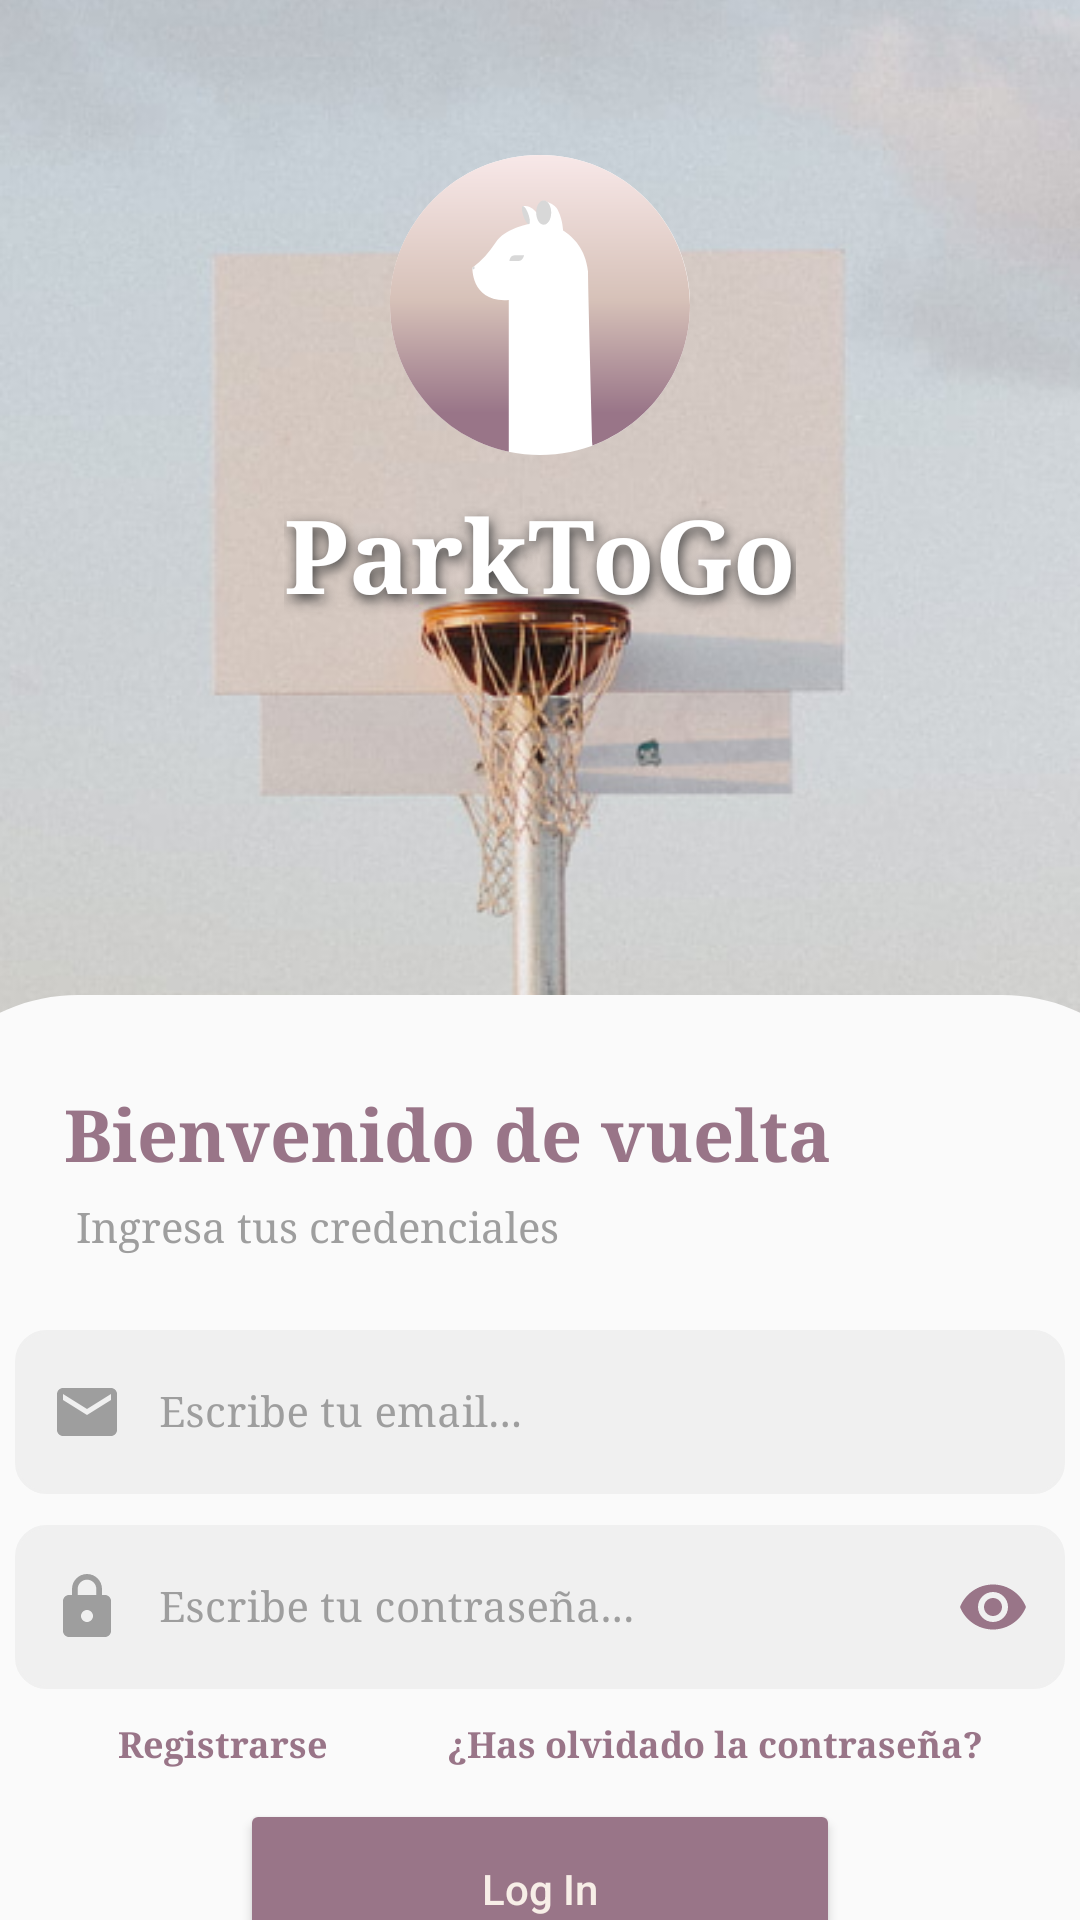

Icon bounding boxes for this 1080 x 1920 phone screenshot, format (x1, y1, x2, y2):
alpaca: (392, 155, 690, 455)
